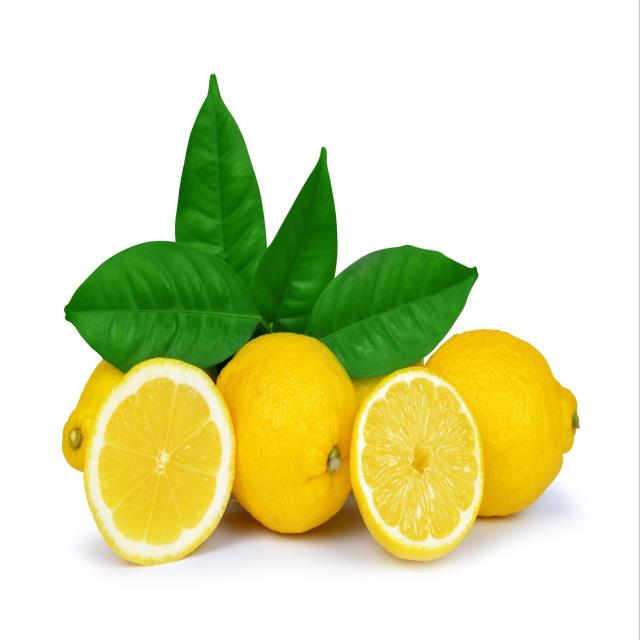lemon: (80, 354, 239, 569), (347, 363, 487, 564)
